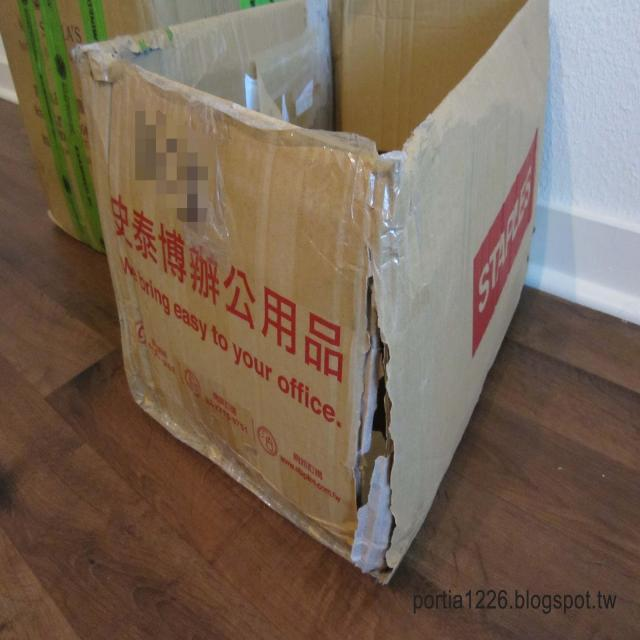damaged: (338, 301, 402, 573)
